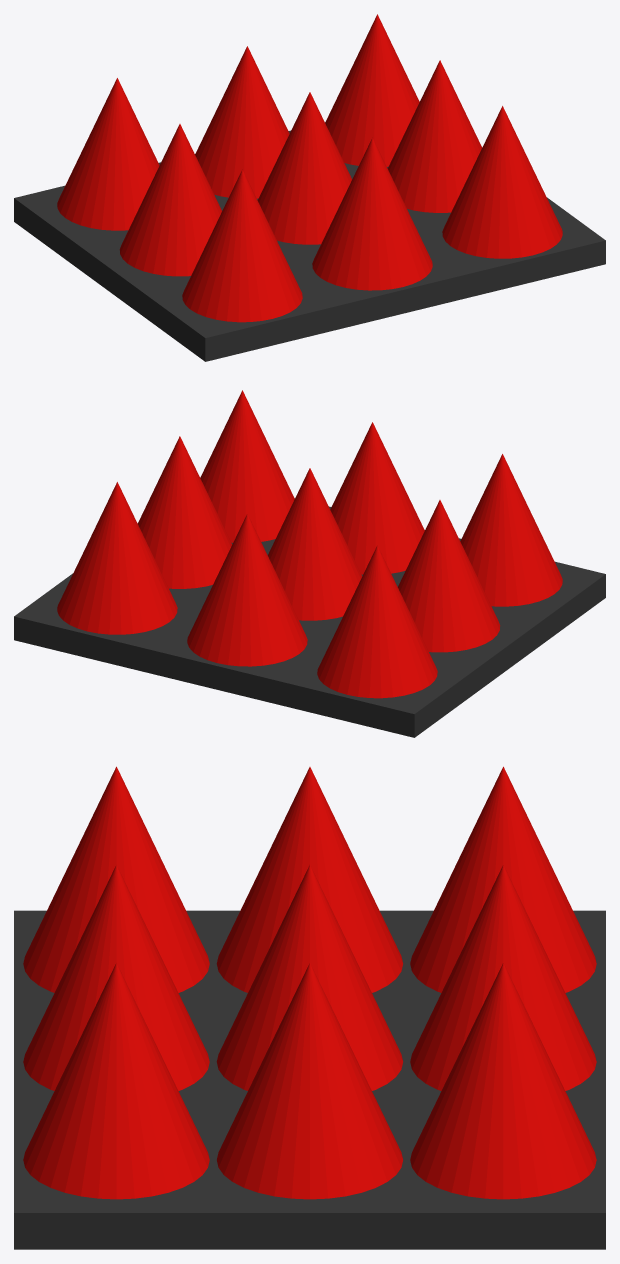
File: engeller.fbx
3 views of the same model, one above another, from view 1: azimuth 30°, elevation 25°; view 2: azimuth 150°, elevation 25°; view 3: azimuth 270°, elevation 25° (orthographic). The views are drawn at different scales.
Parts seen in each view (by area): view 1: engel; view 2: engel; view 3: engel.
Part boxes in pixels (box(x1,y1,x2,y2)): engel: box(14, 14, 605, 361); engel: box(14, 390, 605, 737); engel: box(14, 766, 605, 1249).
Size of the model in its own units: 289 by 104 by 239.
